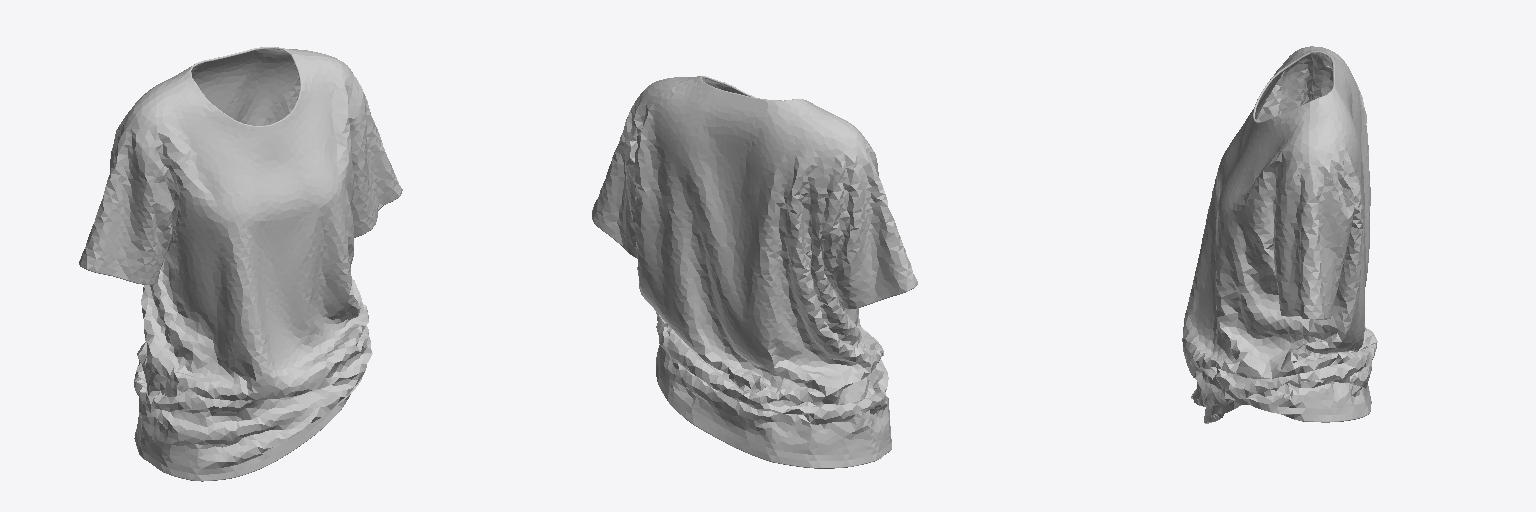
File: F_001_top.obj
3 views of the same model, side by side, from view 1: azimuth 30°, elevation 25°; view 2: azimuth 150°, elevation 25°; view 3: azimuth 270°, elevation 25° (orthographic).
Parts seen in each view (by area): view 1: TNRSSDVGL, TNRSSDTL, TNRSSMNL, TNRSSMNL_Add0; view 2: TNRSSDTL, TNRSSMNL, TNRSSMNL_Add0, TNRSSDVGL; view 3: TNRSSDVGL, TNRSSDTL, TNRSSMNL_Add0, TNRSSMNL.
Boxes of the visible parts, <box> form: TNRSSDVGL: <box>126,53,372,481</box>; TNRSSDTL: <box>117,47,343,462</box>; TNRSSMNL: <box>79,129,174,284</box>; TNRSSMNL_Add0: <box>350,92,402,237</box>; TNRSSDTL: <box>628,76,885,468</box>; TNRSSMNL: <box>820,152,917,309</box>; TNRSSMNL_Add0: <box>592,117,637,258</box>; TNRSSDVGL: <box>667,76,891,454</box>; TNRSSDVGL: <box>1182,46,1311,423</box>; TNRSSDTL: <box>1285,46,1377,422</box>; TNRSSMNL_Add0: <box>1273,173,1354,319</box>; TNRSSMNL: <box>1280,60,1332,113</box>.
Size of the model in its own units: 579 by 625 by 303.